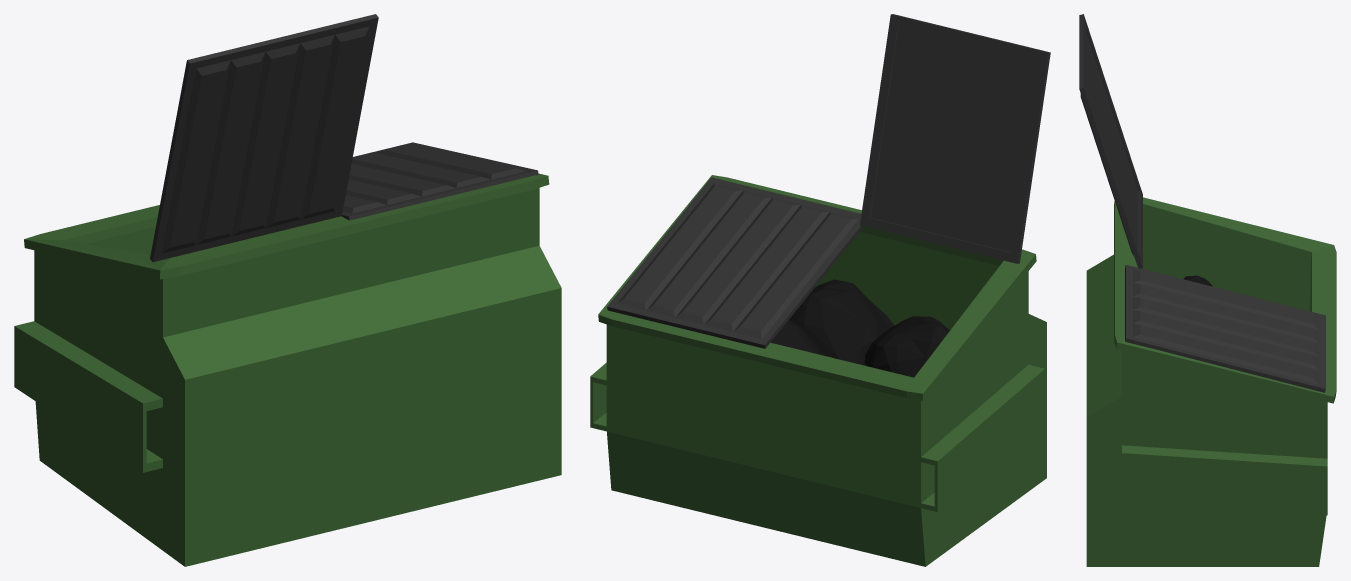
The model's file is DumpsterRightOpen.fbx.
3 renders of one model, left to right at view 1: azimuth 30°, elevation 25°; view 2: azimuth 150°, elevation 25°; view 3: azimuth 270°, elevation 25°, orthographic. The views are drawn at different scales.
Parts seen in each view (by area): view 1: DumpsterRightOpen; view 2: DumpsterRightOpen; view 3: DumpsterRightOpen.
Boxes of the visible parts, x1,y1,x2,y2 form: DumpsterRightOpen: [14, 14, 561, 566]; DumpsterRightOpen: [590, 14, 1050, 566]; DumpsterRightOpen: [1079, 14, 1336, 566].
Size of the model in its own units: 904 by 1054 by 605.
